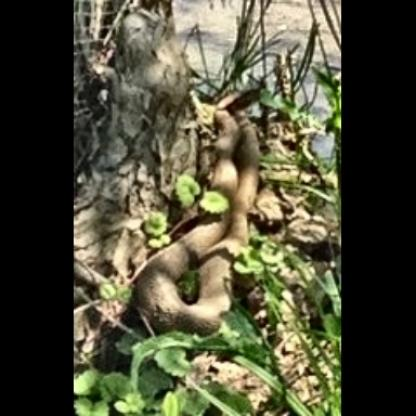Snake: (112, 1, 292, 404)
